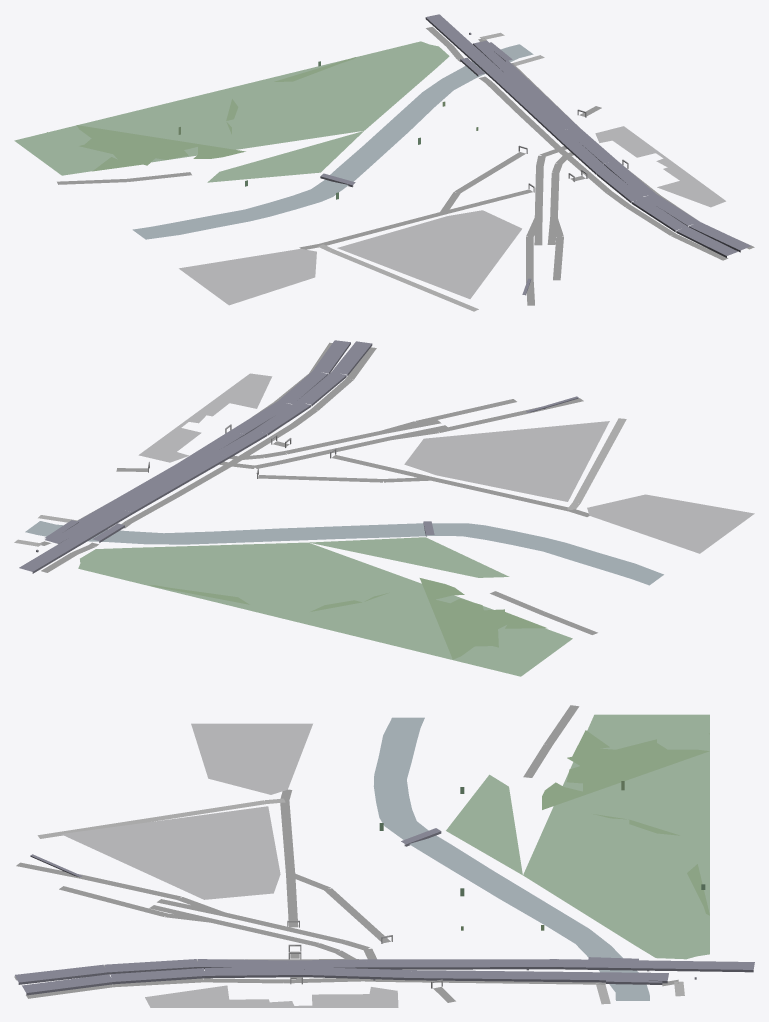
The picture shows the model from 3 angles, top to bottom: view 1: azimuth 30°, elevation 25°; view 2: azimuth 150°, elevation 25°; view 3: azimuth 270°, elevation 25°; orthographic projection. The views are drawn at different scales.
Size of the model in its own units: 520 by 19.94 by 553.
